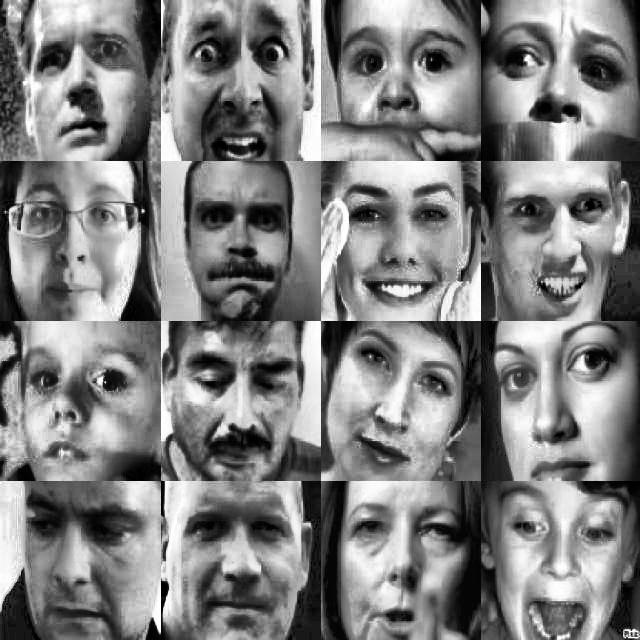angry: (176, 484, 298, 640), (343, 489, 463, 640), (177, 182, 291, 310)
fear: (493, 483, 630, 640), (490, 8, 634, 157), (183, 3, 300, 159), (25, 11, 136, 153)
happy: (486, 319, 629, 479), (342, 322, 464, 476), (331, 173, 465, 311), (502, 176, 613, 313)
neutral: (16, 338, 144, 476)
sad: (18, 481, 149, 640), (338, 21, 467, 159), (9, 171, 132, 313), (181, 338, 303, 478)
